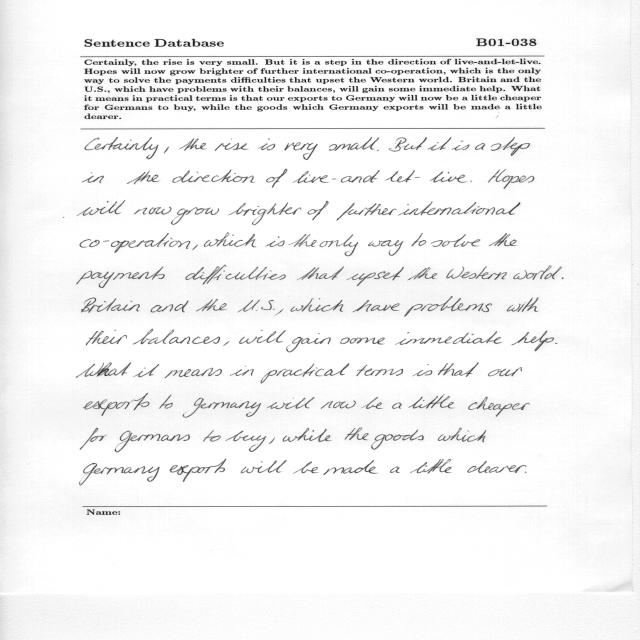word: (293, 170, 472, 183), (80, 233, 191, 253), (185, 265, 286, 284), (77, 267, 165, 288), (398, 201, 520, 216), (79, 463, 160, 485), (261, 364, 350, 384), (404, 297, 492, 317), (228, 203, 301, 226), (85, 138, 158, 160), (115, 431, 190, 452), (183, 398, 261, 418), (84, 393, 150, 416), (395, 331, 502, 345), (169, 459, 227, 482), (133, 329, 220, 344), (468, 397, 530, 417), (173, 169, 255, 183), (346, 267, 404, 286), (337, 203, 397, 221), (371, 430, 424, 450), (82, 297, 140, 313), (226, 430, 267, 452), (171, 207, 219, 225), (77, 362, 131, 378), (511, 331, 554, 351), (286, 333, 331, 352), (446, 266, 507, 280), (320, 235, 358, 257), (323, 460, 378, 475), (77, 200, 125, 216), (496, 169, 534, 189), (291, 298, 344, 312), (491, 137, 530, 156), (513, 265, 562, 280), (204, 233, 256, 247), (468, 461, 527, 473), (329, 137, 379, 151), (283, 428, 332, 442), (438, 428, 486, 442), (297, 266, 344, 280), (239, 330, 286, 344), (86, 330, 127, 346), (408, 395, 454, 409), (431, 234, 480, 247), (410, 459, 452, 474), (438, 362, 479, 377), (284, 142, 318, 160), (241, 460, 287, 473), (80, 428, 107, 450), (164, 368, 222, 378), (267, 397, 315, 409), (389, 137, 427, 152), (353, 300, 400, 312), (368, 240, 403, 256), (357, 365, 404, 376), (237, 300, 275, 313), (507, 297, 539, 312), (151, 301, 189, 313), (215, 138, 248, 151), (127, 171, 160, 184), (196, 299, 227, 312), (267, 169, 288, 188), (308, 201, 329, 220), (288, 234, 317, 247), (408, 267, 437, 280), (489, 234, 517, 247), (179, 138, 206, 151), (134, 364, 159, 377), (428, 137, 451, 151), (340, 338, 385, 345), (321, 400, 356, 409), (293, 462, 319, 474), (488, 368, 522, 377), (134, 207, 172, 215), (345, 428, 369, 440), (362, 397, 383, 409), (82, 173, 104, 184), (230, 366, 254, 376), (413, 364, 433, 376), (203, 430, 221, 442), (159, 394, 173, 409), (259, 139, 276, 151), (265, 237, 285, 247), (412, 233, 426, 246), (452, 141, 469, 151), (488, 170, 500, 183), (475, 143, 485, 150), (390, 466, 400, 473), (392, 403, 402, 409), (276, 309, 284, 315), (269, 438, 275, 444), (164, 147, 169, 154), (192, 245, 198, 250), (224, 341, 230, 346), (377, 150, 379, 151), (562, 278, 564, 279), (555, 343, 557, 344), (525, 471, 526, 473)
